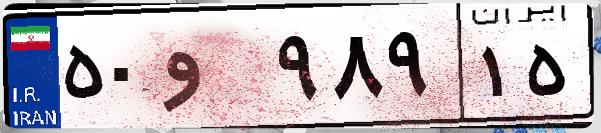0: (110, 28, 158, 98)
1: (475, 38, 525, 113)
5: (57, 26, 110, 100), (525, 38, 570, 115)
8: (330, 28, 385, 110)
9: (270, 28, 330, 110), (385, 28, 445, 110)
و: (158, 20, 270, 120)
